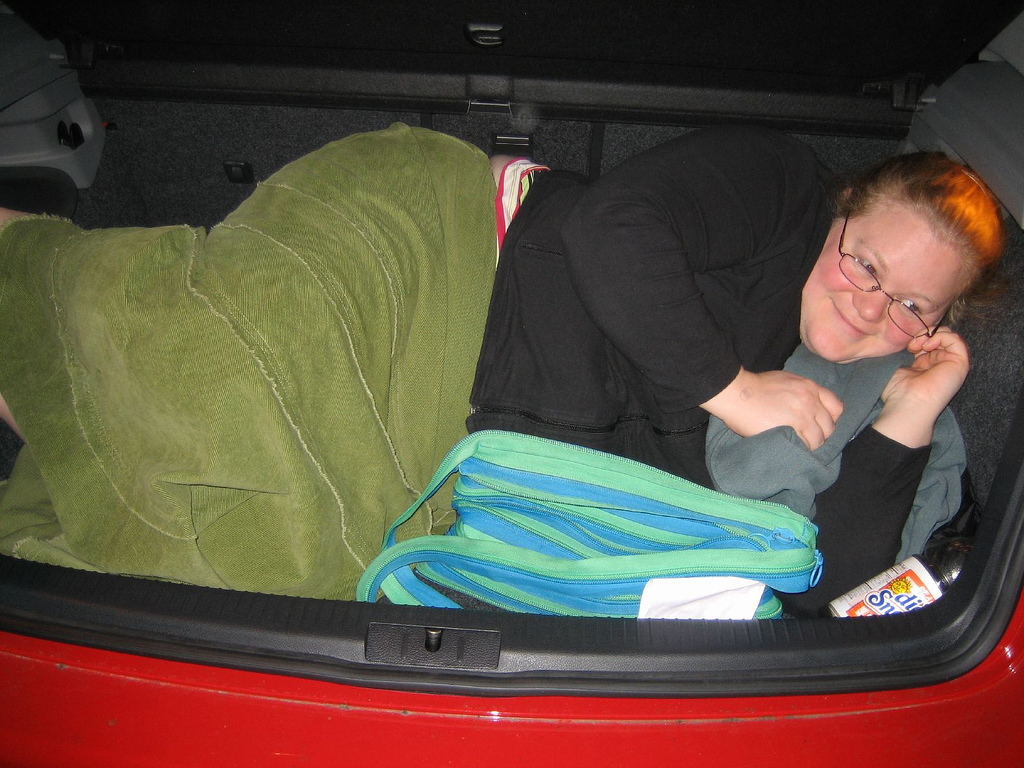Car: (0, 0, 1022, 767)
